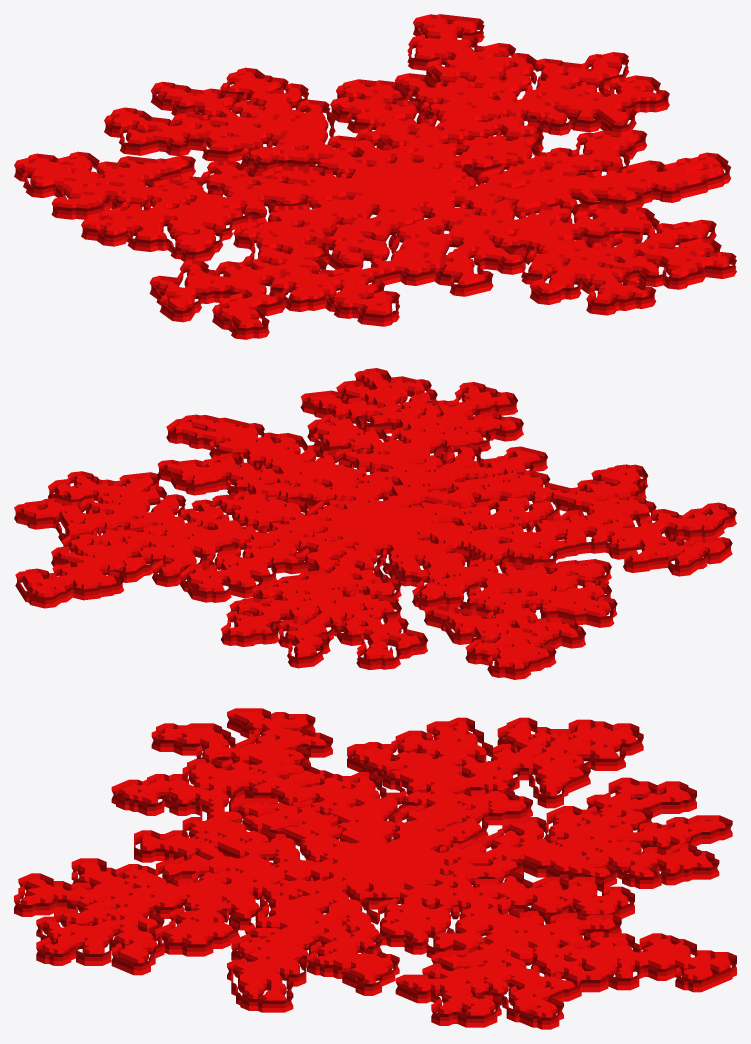
File: New Game Object.fbx
3 renders of one model, top to bottom at view 1: azimuth 30°, elevation 25°; view 2: azimuth 150°, elevation 25°; view 3: azimuth 270°, elevation 25°, orthographic. The views are drawn at different scales.
Parts seen in each view (by area): view 1: New_Game_Object; view 2: New_Game_Object; view 3: New_Game_Object.
Boxes of the visible parts, <box> form: New_Game_Object: <box>14,14,736,339</box>; New_Game_Object: <box>14,368,736,679</box>; New_Game_Object: <box>14,708,736,1029</box>.
Bounding box in the file's own units: 16490 × 300 × 16290.
